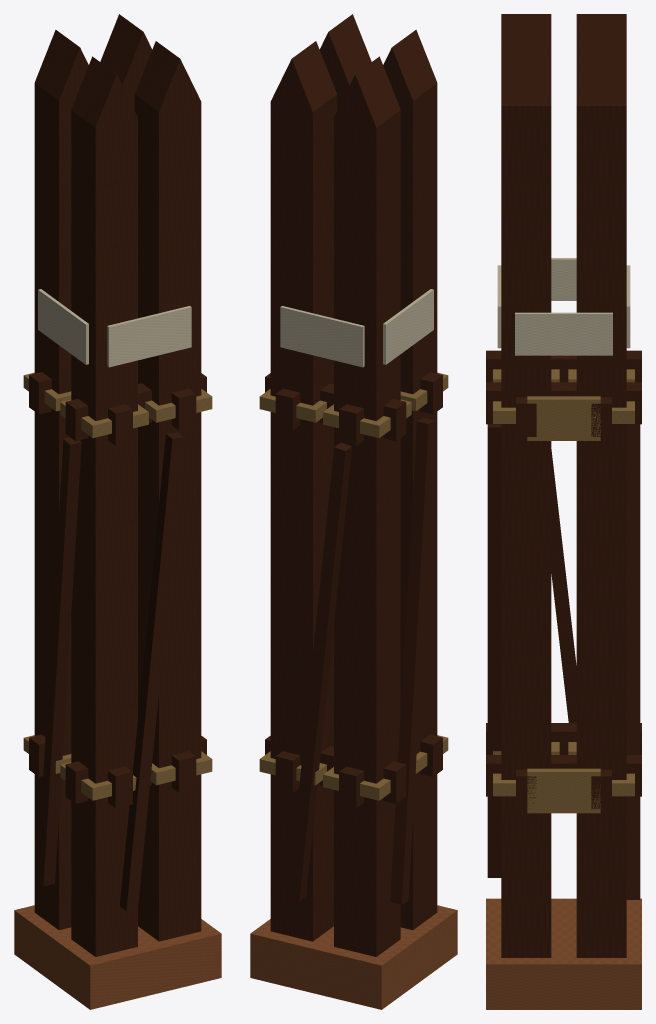
File: Berber_PalisadeBastion_Age1_terminal.fbx
3 views of the same model, side by side, from view 1: azimuth 30°, elevation 25°; view 2: azimuth 150°, elevation 25°; view 3: azimuth 270°, elevation 25° (orthographic). The views are drawn at different scales.
Parts seen in each view (by area): view 1: split_timber_upright, split_timber_upright.002, split_timber_upright.001, compacted_earth_footing, terminal_diagonal_stay.004, terminal_diagonal_stay.002, native_owner_stripe_source.002, split_timber_upright.003, native_owner_stripe_source, bundle_cross_tie_x.002, bundle_cross_tie_y.001, bundle_cross_tie_y.003 (+8 smaller); view 2: split_timber_upright.001, split_timber_upright.003, split_timber_upright, compacted_earth_footing, terminal_diagonal_stay.002, terminal_diagonal_stay, native_owner_stripe_source.003, split_timber_upright.002, native_owner_stripe_source, bundle_cross_tie_x.003, bundle_cross_tie_x.001, bundle_cross_tie_y.003 (+8 smaller); view 3: split_timber_upright.002, split_timber_upright.003, compacted_earth_footing, terminal_diagonal_stay, terminal_diagonal_stay.004, native_owner_stripe_source.001, exposed_wall_socket_collar, terminal_diagonal_stay.002, exposed_wall_socket_collar.001, split_timber_upright, split_timber_upright.001, bundle_cross_tie_y.003 (+10 smaller).
Part boxes in pixels (bbox=[...]): split_timber_upright: bbox=[71, 56, 137, 956]; split_timber_upright.002: bbox=[134, 41, 201, 941]; split_timber_upright.001: bbox=[34, 30, 88, 930]; compacted_earth_footing: bbox=[14, 905, 221, 1009]; terminal_diagonal_stay.004: bbox=[119, 432, 183, 911]; terminal_diagonal_stay.002: bbox=[37, 437, 81, 886]; native_owner_stripe_source.002: bbox=[107, 306, 191, 367]; split_timber_upright.003: bbox=[100, 14, 152, 109]; native_owner_stripe_source: bbox=[38, 289, 88, 364]; bundle_cross_tie_x.002: bbox=[65, 373, 206, 441]; bundle_cross_tie_y.001: bbox=[171, 751, 196, 792]; bundle_cross_tie_y.003: bbox=[171, 388, 196, 430]; split_timber_upright.001: bbox=[334, 56, 400, 956]; split_timber_upright.003: bbox=[270, 41, 337, 941]; split_timber_upright: bbox=[383, 30, 437, 930]; compacted_earth_footing: bbox=[250, 905, 457, 1009]; terminal_diagonal_stay.002: bbox=[390, 417, 434, 904]; terminal_diagonal_stay: bbox=[288, 442, 352, 900]; native_owner_stripe_source.003: bbox=[280, 306, 364, 367]; split_timber_upright.002: bbox=[319, 14, 371, 109]; native_owner_stripe_source: bbox=[383, 289, 433, 364]; bundle_cross_tie_x.003: bbox=[265, 373, 406, 441]; bundle_cross_tie_x.001: bbox=[265, 736, 406, 803]; bundle_cross_tie_y.003: bbox=[275, 388, 300, 430]; split_timber_upright.002: bbox=[501, 46, 551, 957]; split_timber_upright.003: bbox=[576, 46, 626, 957]; compacted_earth_footing: bbox=[486, 898, 641, 1009]; terminal_diagonal_stay: bbox=[626, 424, 640, 899]; terminal_diagonal_stay.004: bbox=[487, 424, 501, 877]; native_owner_stripe_source.001: bbox=[515, 312, 612, 355]; exposed_wall_socket_collar: bbox=[527, 768, 600, 813]; terminal_diagonal_stay.002: bbox=[551, 449, 576, 722]; exposed_wall_socket_collar.001: bbox=[527, 396, 600, 440]; split_timber_upright: bbox=[501, 14, 551, 45]; split_timber_upright.001: bbox=[576, 14, 626, 45]; bundle_cross_tie_y.003: bbox=[486, 382, 641, 424].
Bounding box in the file's own units: 68.29 × 458 × 68.29.
Materials: 4 (4 with a texture image).
